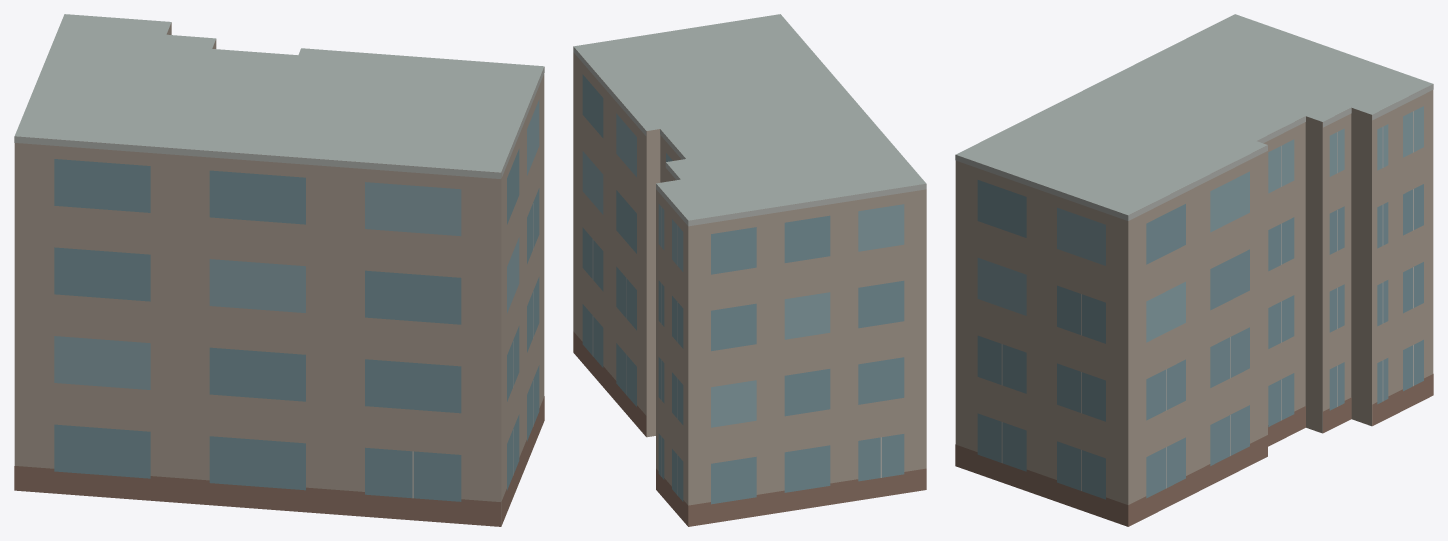
The model's file is survey-upis-32712355.glb.
3 views of the same model, side by side, from view 1: azimuth 30°, elevation 25°; view 2: azimuth 150°, elevation 25°; view 3: azimuth 270°, elevation 25° (orthographic). The views are drawn at different scales.
Visible parts, largest first — view 1: survey-upis-32712355.tmp; view 2: survey-upis-32712355.tmp; view 3: survey-upis-32712355.tmp.
Boxes of the visible parts, x1,y1,x2,y2 form: survey-upis-32712355.tmp: (14,14,544,526); survey-upis-32712355.tmp: (573,14,926,526); survey-upis-32712355.tmp: (955,14,1433,526).
Bounding box in the file's own units: 18.31 × 13.2 × 18.36.
